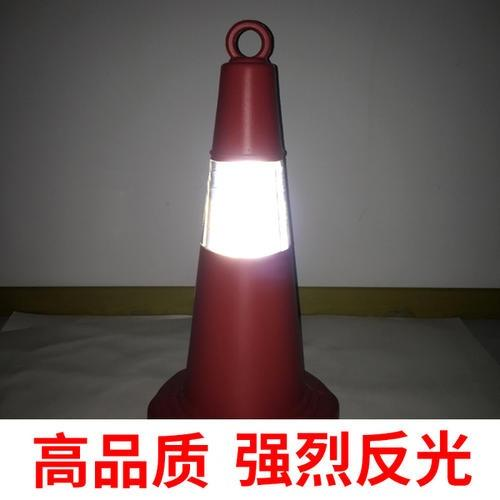cone_barrel: (155, 21, 333, 428)
